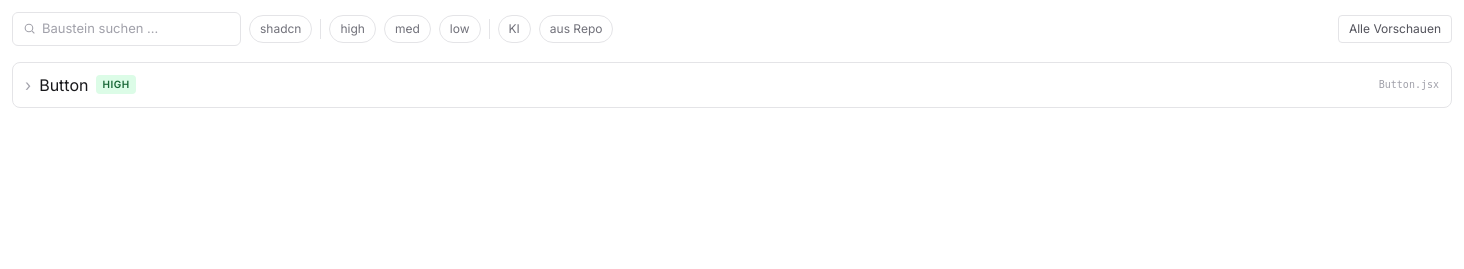
Scenario: LibraryLevel page › listet einen erkannten Atom-Kopf; Varianten erscheinen erst nach Aufklappen (initial zusammengeklappt)
Expected: the button "primary" is not shown
Click the text "Button" at coordinates (64, 84), box 39,72 -> 88,96
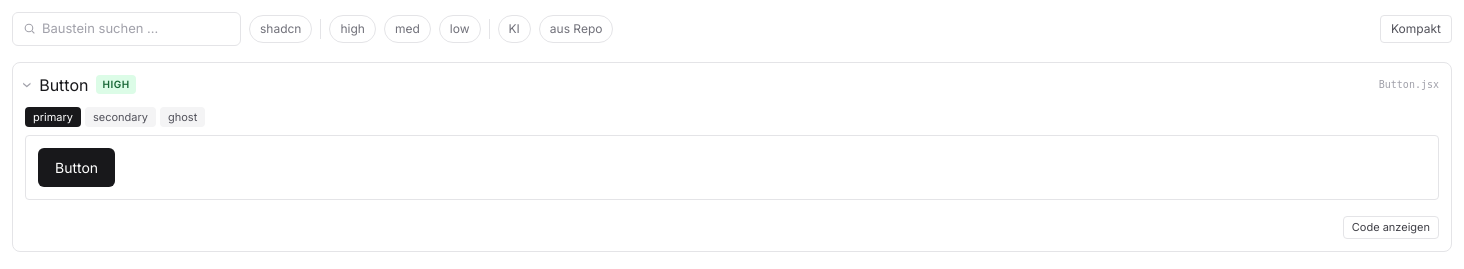
Expected: the button "primary" is shown, 25,106 -> 81,127
